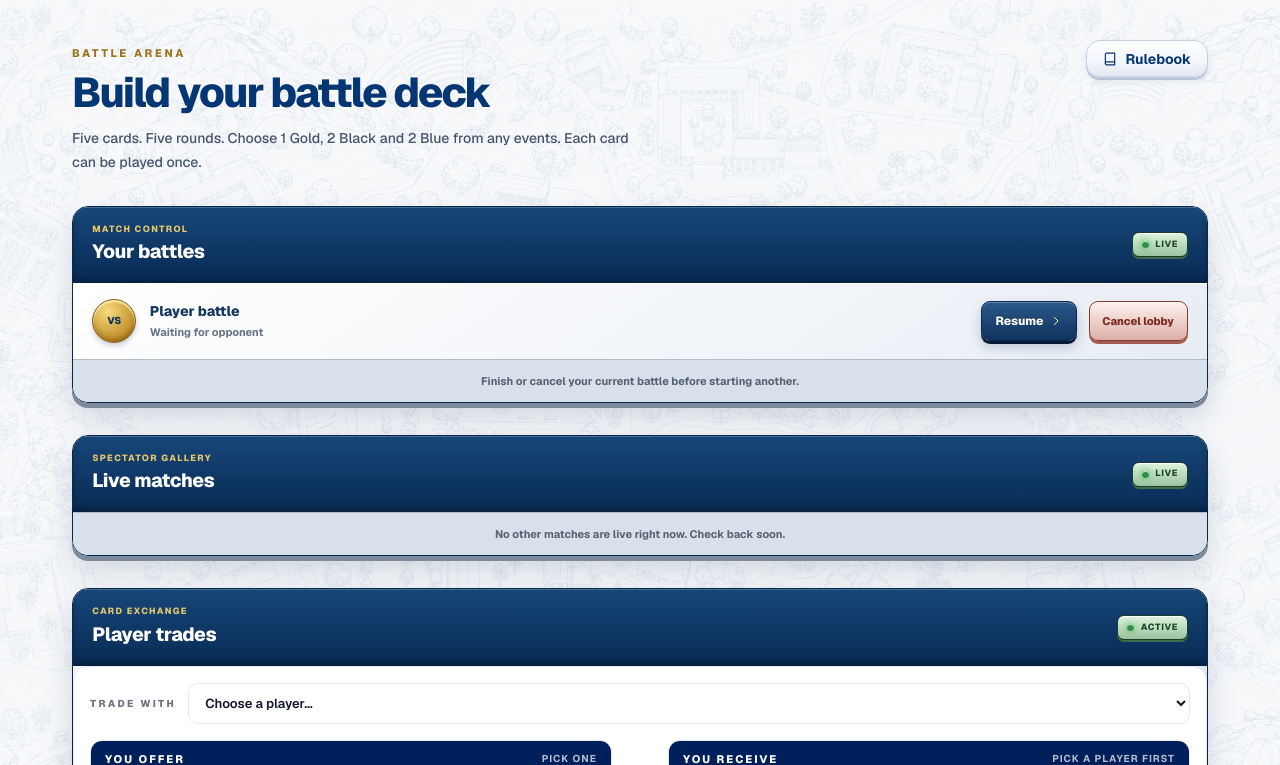
Scenario: displays error message when cancelling or forfeiting a game fails
Expected: the heading "Your battles" is shown, [92,238,205,267]
Click the button "Cancel lobby".
click(1138, 321)  # box [1088,301,1188,341]
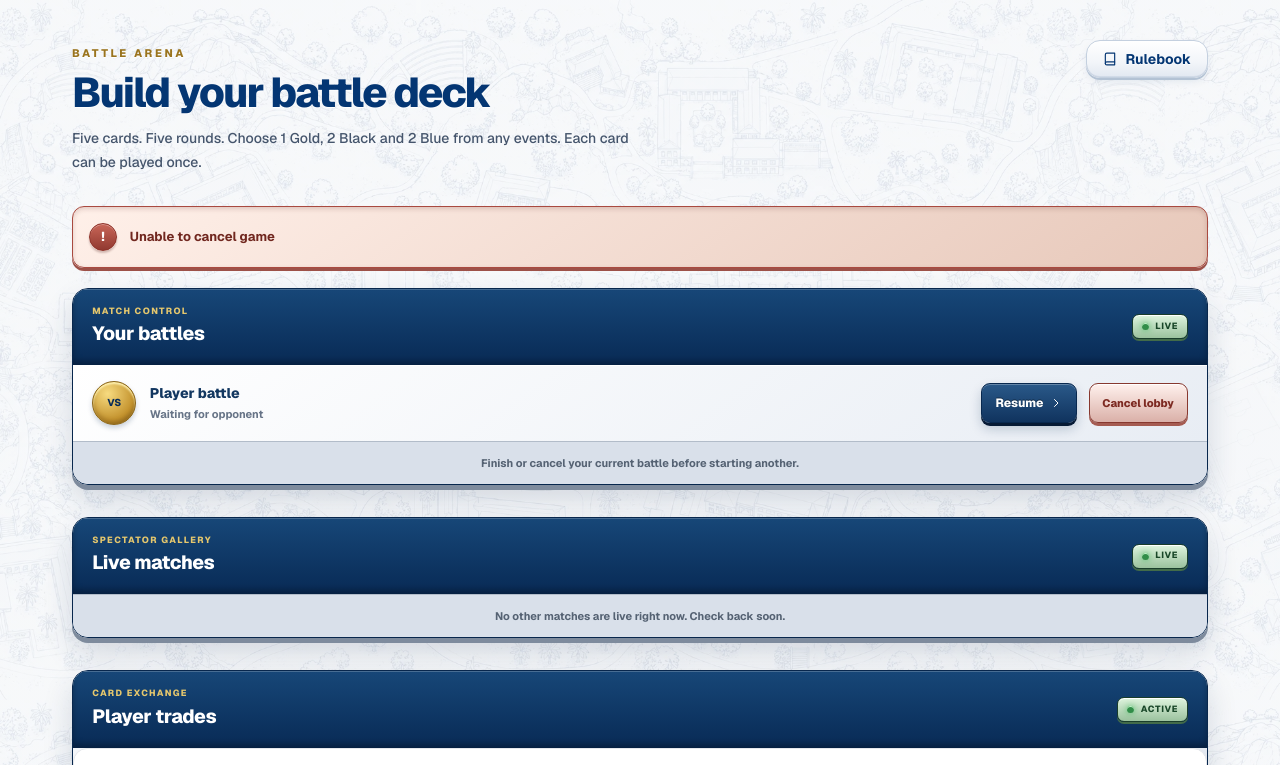
Expected: the message shows "Unable to cancel game", [130,228,275,245]
